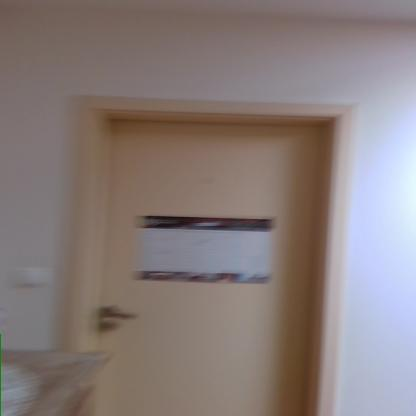closed: (49, 84, 365, 401)
